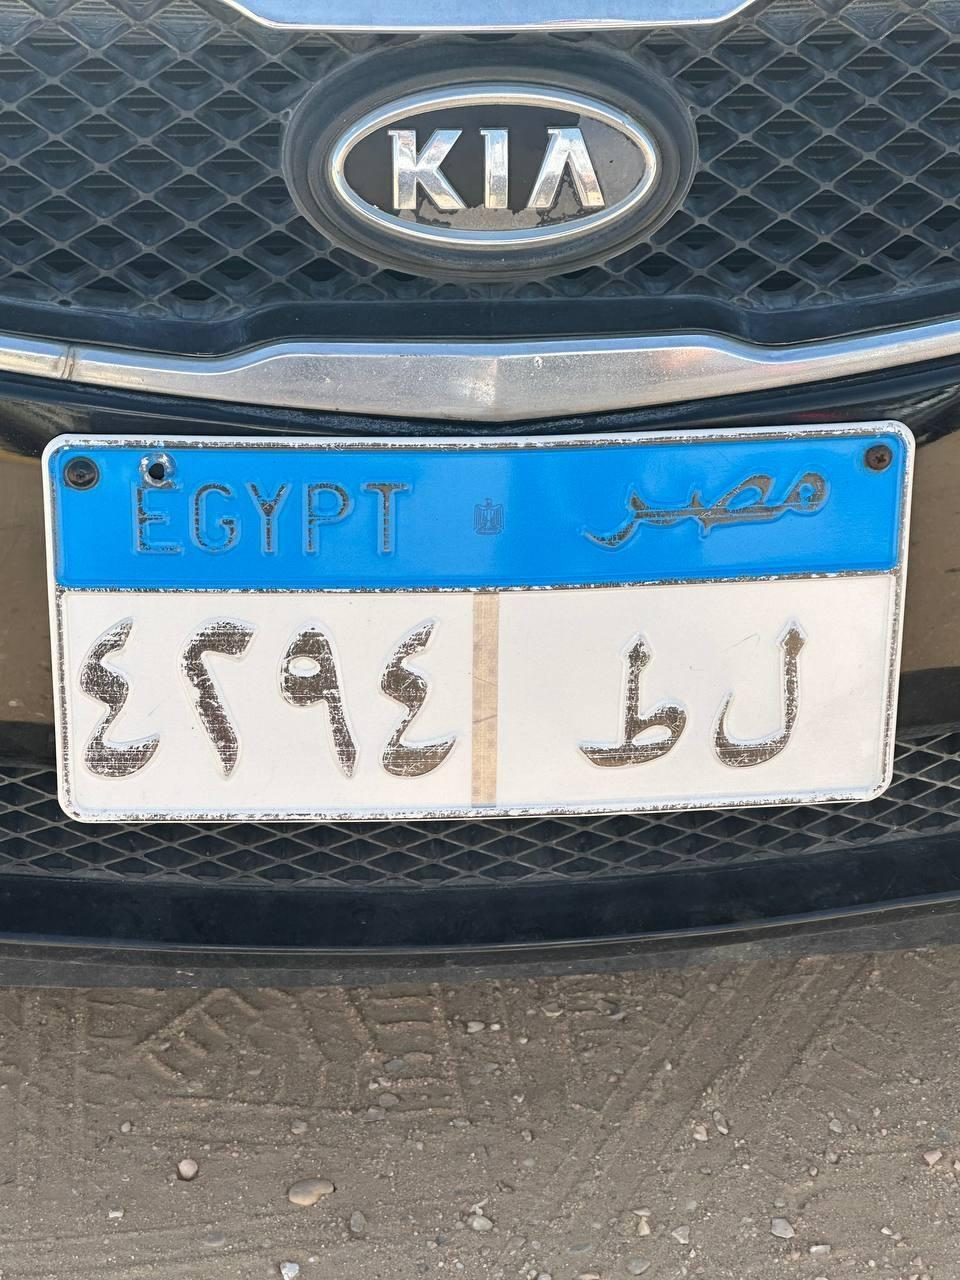2: (180, 613, 251, 776)
4: (77, 609, 160, 778), (380, 619, 472, 769)
9: (276, 629, 366, 776)
Laam: (714, 612, 828, 774)
License Plate: (39, 418, 916, 826)
Taa: (568, 627, 692, 774)
